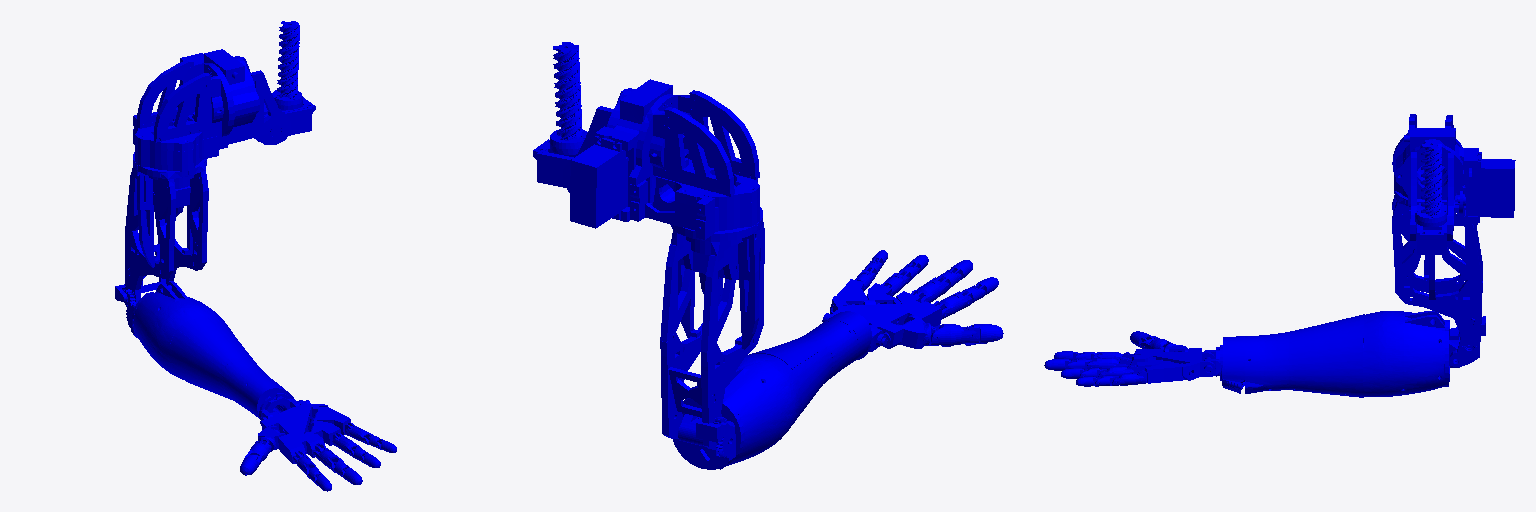
URDF robot description (RobotArm):
<?xml version="1.0"?>
<robot name="RobotArm">

    <material name="blue">
        <color rgba="0 0 1 1"/>
    </material>


<link name="base_link">
        <visual>
            <geometry>
<mesh filename="package://inmoov_description/STL/spalladestra2b.dae" scale="0.009 0.009 0.009" />
            </geometry>
            <origin rpy="4.7 -4.726 -0.03" xyz="-0.1 -1 0.08" />
            <material name="blue"/>
        </visual>
        <collision>
            <geometry>
               <mesh filename="package://inmoov_description/STL/spalladestra2b.dae" scale="0.009 0.009 0.009" />
            </geometry>
          <origin rpy="0 0 0" xyz="0 0 0" />
            <material name="blue"/>
        </collision>
    </link>

    <joint name="joint_spalladx" type="revolute">
        <parent link="base_link"/>
        <child link="spalla2dx_link"/>
      <origin rpy="0 0 -0.02" xyz="0.4 -0.66 -0.41" />
        <axis xyz="1 0 0"/>
        <limit effort="1000" lower="-0.4" upper="0.4" velocity="5"/>
    </joint> 

<link name="spalla2dx_link">
        <visual>
            <geometry>
<mesh filename="package://inmoov_description/STL/spalladestra1a.dae" scale="0.009 0.009 0.009" />
            </geometry>
            <origin rpy="4.7 -4.726 -0.03" xyz="-0.50 -0.39 0.5" />
            <material name="blue"/>
        </visual>
        <collision>
            <geometry>
               <mesh filename="package://inmoov_description/STL/spalladestra1a.dae" scale="0.009 0.009 0.009" />
            </geometry>
          <origin rpy="0 0 0" xyz="0 0 0" />
            <material name="blue"/>
        </collision>
    </link>

    <joint name="joint_bicipitedx" type="revolute">
        <parent link="spalla2dx_link"/>
        <child link="bicipitedx_link"/>
      <origin rpy="0 0 0" xyz="-1.027 0.04 -2.686" />
        <axis xyz="0 0 1"/>
        <limit effort="1000" lower="-0.5" upper="0" velocity="5"/>
    </joint>  


  <link name="bicipitedx_link">
        <visual>
            <geometry>
                 <mesh filename="package://inmoov_description/STL/bicipitedestrotelaio.dae" scale="0.009 0.009 0.009" />
            </geometry>
            <origin rpy="14.13 0 -4.7" xyz="-0.46 -0.43 2.165" />
            <material name="blue"/>
        </visual>
        <collision>
            <geometry>
               <mesh filename="package://inmoov_description/STL/bicipitedestrotelaio.dae" scale="0.009 0.009 0.009" />
            </geometry>
          <origin rpy="0 0 0" xyz="0 0 0" />
            <material name="blue"/>
        </collision>
    </link>

<joint name="joint_servobicipitedx2" type="revolute">
        <parent link="avambracciodx_link"/>
        <child link="servobicipitedx_link"/>
      <origin rpy="0 0 0" xyz="-0.24 -0.15 0.4" />
        <axis xyz="1 0 0"/>
        <limit effort="1000" lower="0.25" upper="0.25" velocity="5"/>
    </joint> 

  <link name="servobicipitedx_link">
        <visual>
            <geometry>
                 <mesh filename="package://inmoov_description/STL/servomotoresinistrobicipite.dae" scale="0.009 0.009 0.009" />
            </geometry>
            <origin rpy="4.7 0 -0.03" xyz="-0.73 -0.44 1.62" />
            <material name="blue"/>
        </visual>
        <collision>
            <geometry>
               <mesh filename="package://inmoov_description/STL/servomotoresinistrobicipite.dae" scale="0.009 0.009 0.009" />
            </geometry>
          <origin rpy="0 0 0" xyz="0 0 0" />
            <material name="blue"/>
        </collision>
    </link>

 <joint name="joint_avambracciodx" type="revolute">
        <parent link="bicipitedx_link"/>
        <child link="avambracciodx_link"/>
     <origin rpy="0 0 0" xyz="-0.04 0.25 0.15" />
        <axis xyz="1 0 0"/>
        <limit effort="1000" lower="-0.4" upper="0" velocity="5"/>
    </joint>  

<link name="avambracciodx_link">
        <visual>
            <geometry>
                 <mesh filename="package://inmoov_description/STL/avambracciodestro.dae" scale="0.009 0.009 0.009" />
            </geometry>
            <origin rpy="0 10.16 0" xyz="1.1 -0.07 -0.74" />
            <material name="blue"/>
        </visual>
        <collision>
            <geometry>
               <mesh filename="package://inmoov_description/STL/avambracciodestro.dae" scale="0.009 0.009 0.009" />
            </geometry>
          <origin rpy="0 0 0" xyz="0 0 0" />
            <material name="blue"/>
        </collision>
    </link>

    <joint name="joint_mano_dx" type="revolute">
        <parent link="avambracciodx_link"/>
        <child link="handdx_link"/>
      <origin rpy="0 3 0" xyz="0.06 -0.11 -0.1" />
        <axis xyz="0 1 0"/>
        <limit effort="1000" lower="0" upper="1.5" velocity="5"/>
    </joint>

<link name="handdx_link">
        <visual>
            <geometry>
                 <mesh filename="package://inmoov_description/STL/manodestra.dae" scale="0.009 0.009 0.009" />
            </geometry>
            <origin rpy="0 1.6 1.55" xyz="0.026 -2.47 0.03" />
            <material name="blue"/>
        </visual>
        <collision>
            <geometry>
               <mesh filename="package://inmoov_description/STL/manodestra.dae" scale="0.009 0.009 0.009" />
            </geometry>
          <origin rpy="7 0 0" xyz="0 -2.4 0" />
            <material name="blue"/>
        </collision>
    </link>

    <joint name="joint_pollicedx1" type="revolute">
        <parent link="handdx_link"/>
        <child link="pollice1dx_link"/>
     <origin rpy="0 0 0" xyz="0.3 -3 0.05" />
        <axis xyz="0 1 0"/>
       <limit effort="1000" lower="0" upper="1.5" velocity="5"/>
    </joint>


    <link name="pollice1dx_link">
        <visual>
            <geometry>
                 <mesh filename="package://inmoov_description/STL/pollice_destro3.dae" scale="0.009 0.009 0.009" />
            </geometry>
            <origin rpy="-0.01 0.25 0.9" xyz="0.53 -0.43 0.3" />
            <material name="blue"/>
        </visual>
        <collision>
            <geometry>
               <mesh filename="package://inmoov_description/STL/pollice_destro3.dae" scale="0.009 0.009 0.009" />
            </geometry>
           <origin rpy="0 0 0" xyz="0 0 0" />
            <material name="blue"/>
        </collision>
    </link>


    <joint name="joint_pollicedx2" type="revolute">
        <parent link="pollice1dx_link"/>
        <child link="pollice2dx_link"/>
        <origin rpy="4.9 5 0.65" xyz="0.25 -0.1 0" />
         <axis xyz="0 1 0"/>
<limit effort="1000" lower="0" upper="1.5" velocity="5"/>
    </joint>


<link name="pollice2dx_link">
        <visual>
            <geometry>
                 <mesh filename="package://inmoov_description/STL/pollice_2.dae" scale="0.009 0.009 0.009" />
            </geometry>
            <origin xyz="0.0 0.0 0.0175"/>
            <material name="blue"/>
        </visual>
        <collision>
            <geometry>
               <mesh filename="package://inmoov_description/STL/pollice_2.dae" scale="0.009 0.009 0.009" />
            </geometry>
             <origin rpy="0 0 0" xyz="0 0 0" />
            <material name="blue"/>
        </collision>
    </link>

    <joint name="joint_pollicedx3" type="revolute">
        <parent link="pollice2dx_link"/>
        <child link="pollice3dx_link"/>
       <origin rpy="0 0 0" xyz="0 0 -0.3" />
        <axis xyz="0 1 0"/>
        <limit effort="1000" lower="0" upper="1.5" velocity="5"/>
    </joint>

<link name="pollice3dx_link">
        <visual>
            <geometry>
                 <mesh filename="package://inmoov_description/STL/pollice_3.dae" scale="0.009 0.009 0.009" />
            </geometry>
            <origin xyz="0 0 0"/>
            <material name="blue"/>
        </visual>
        <collision>
            <geometry>
               <mesh filename="package://inmoov_description/STL/pollice_3.dae" scale="0.009 0.009 0.009" />
            </geometry>
           <origin rpy="9.4 0 0" xyz="0 0 0" />
            <material name="blue"/>
        </collision>
    </link>    

    <joint name="joint_indicedx1" type="revolute">
        <parent link="handdx_link"/>
        <child link="indicedx1_link"/>
      <origin rpy="-3.06 4.7 -1.53" xyz="0.31 -3.553 0.08" />
      <axis xyz="0 1 0"/>
 <limit effort="1000" lower="-1.5" upper="0" velocity="5"/>
    </joint>

   <link name="indicedx1_link">
        <visual>
            <geometry>
                 <mesh filename="package://inmoov_description/STL/indice1.dae" scale="0.009 0.009 0.009" />
            </geometry>
             <origin rpy="0 0 0" xyz="0 0 0.32" />
            <material name="blue"/>
        </visual>
        <collision>
            <geometry>
               <mesh filename="package://inmoov_description/STL/indice1.dae" scale="0.009 0.009 0.009" />
            </geometry>
            <origin rpy="0 0 0" xyz="0 0 0.32" />
            <material name="blue"/>
        </collision>
    </link> 

    <joint name="joint_indicedx2" type="revolute">
        <parent link="indicedx1_link"/>
        <child link="indicedx2_link"/>
        <origin rpy="0 0 0" xyz="0 0 0.35" />
        <axis xyz="0 1 0"/>
        <limit effort="1000" lower="-1.5" upper="0" velocity="5"/>
    </joint>

    <link name="indicedx2_link">
        <visual>
            <geometry>
                 <mesh filename="package://inmoov_description/STL/indice2.dae" scale="0.009 0.009 0.009" />
            </geometry>
            <origin rpy="9.4 0 0" xyz="0 0 -0.025" />
            <material name="blue"/>
        </visual>
        <collision>
            <geometry>
               <mesh filename="package://inmoov_description/STL/indice2.dae" scale="0.009 0.009 0.009" />
            </geometry>
           <origin rpy="9.4 0 0" xyz="0 0 -0.025" />
            <material name="blue"/>
        </collision>
    </link> 

    <joint name="joint_indicedx3" type="revolute">
        <parent link="indicedx2_link"/>
        <child link="indicedx3_link"/>
      <origin rpy="0 0 0" xyz="0 0.005 0.2" />
      <axis xyz="0 1 0"/>
 <limit effort="1000" lower="-1.5" upper="0" velocity="5"/>
    </joint>

    <link name="indicedx3_link">
        <visual>
            <geometry>
                 <mesh filename="package://inmoov_description/STL/indice3.dae" scale="0.009 0.009 0.009" />
            </geometry>
            <origin rpy="9.4 0 0" xyz="0 0 -0.01" />
            <material name="blue"/>
        </visual>
        <collision>
            <geometry>
               <mesh filename="package://inmoov_description/STL/indice3.dae" scale="0.009 0.009 0.009" />
            </geometry>
             <origin rpy="9.4 0 0" xyz="0 0 -0.01" />
            <material name="blue"/>
        </collision>
    </link> 

    <joint name="joint_mediodx1" type="revolute">
        <parent link="handdx_link"/>
        <child link="mediodx1_link"/>
       <origin rpy="-3.14 4.7 -1.565" xyz="0.065 -3.58 0.08" />
        <axis xyz="0 1 0"/>
       <limit effort="1000" lower="-1.5" upper="0" velocity="5"/>
    </joint>

    <link name="mediodx1_link">
        <visual>
            <geometry>
                 <mesh filename="package://inmoov_description/STL/medio_1.dae" scale="0.009 0.009 0.009" />
            </geometry>
           <origin rpy="0 0 0" xyz="0 0 0.35" />
            <material name="blue"/>
        </visual>
        <collision>
            <geometry>
               <mesh filename="package://inmoov_description/STL/medio_1.dae" scale="0.009 0.009 0.009" />
            </geometry>
             <origin rpy="0 0 0" xyz="0 0 0.35" />
            <material name="blue"/>
        </collision>
    </link> 

    <joint name="joint_mediodx2" type="revolute">
        <parent link="mediodx1_link"/>
        <child link="mediodx2_link"/>
          <origin rpy="0 0 0" xyz="0 0 0.35" />
        <axis xyz="0 1 0"/>
        <limit effort="1000" lower="-1.5" upper="0" velocity="5"/>
    </joint>

    <link name="mediodx2_link">
        <visual>
            <geometry>
                 <mesh filename="package://inmoov_description/STL/medio_2.dae" scale="0.009 0.009 0.009" />
            </geometry>
              <origin rpy="9.4 0 0" xyz="0 0 0.015" />
            <material name="blue"/>
        </visual>
        <collision>
            <geometry>
               <mesh filename="package://inmoov_description/STL/medio_2.dae" scale="0.009 0.009 0.009" />
            </geometry>
             <origin rpy="9.4 0 0" xyz="0 0 0.015" />
            <material name="blue"/>
        </collision>
    </link> 

    <joint name="joint_mediodx3" type="revolute">
        <parent link="mediodx2_link"/>
        <child link="mediodx3_link"/>
         <origin rpy="0 0 0" xyz="0 0 0.22" />
      <axis xyz="0 1 0"/>
 <limit effort="1000" lower="-1.5" upper="0" velocity="5"/>    
   </joint>

    <link name="mediodx3_link">
        <visual>
            <geometry>
                 <mesh filename="package://inmoov_description/STL/medio_3.dae" scale="0.009 0.009 0.009" />
            </geometry>
             <origin rpy="9.4 0 0" xyz="0 0 0.02" />
            <material name="blue"/>
        </visual>
        <collision>
            <geometry>
               <mesh filename="package://inmoov_description/STL/medio_3.dae" scale="0.009 0.009 0.009" />
            </geometry>
             <origin rpy="9.4 0 0" xyz="0 0 0.02" />
            <material name="blue"/>
        </collision>
    </link> 


     <joint name="joint_anularedx1" type="revolute">
        <parent link="handdx_link"/>
        <child link="anulare1dx_link"/>
       <origin rpy="-3.22 4.7 -1.565" xyz="-0.22 -3.495 0.08" />
        <axis xyz="0 1 0"/>
        <limit effort="1000" lower="-1.5" upper="0" velocity="5"/>
    </joint>

    <link name="anulare1dx_link">
        <visual>
            <geometry>
                 <mesh filename="package://inmoov_description/STL/anulare_2.dae" scale="0.009 0.009 0.009" />
            </geometry>
              <origin rpy="9.4 0 0" xyz="0 0 0" />
            <material name="blue"/>
        </visual>
        <collision>
            <geometry>
               <mesh filename="package://inmoov_description/STL/anulare_2.dae" scale="0.009 0.009 0.009" />
            </geometry>
             <origin rpy="9.4 0 0" xyz="0 0 0" />
            <material name="blue"/>
        </collision>
    </link> 

    <joint name="joint_anularedx2" type="revolute">
        <parent link="anulare1dx_link"/>
        <child link="anulare2dx_link"/>
         <origin rpy="0 0 0" xyz="0 0 0.32" />
      <axis xyz="0 1 0"/>
 <limit effort="1000" lower="-1.5" upper="0" velocity="5"/>
    </joint>

    <link name="anulare2dx_link">
        <visual>
            <geometry>
                 <mesh filename="package://inmoov_description/STL/anulare_3.dae" scale="0.009 0.009 0.009" />
            </geometry>
             <origin rpy="9.4 0 0" xyz="0 0 0" />
            <material name="blue"/>
        </visual>
        <collision>
            <geometry>
               <mesh filename="package://inmoov_description/STL/anulare_3.dae" scale="0.009 0.009 0.009" />
            </geometry>
             <origin rpy="9.4 0 0" xyz="0 0 0.02" />
            <material name="blue"/>
        </collision>
    </link> 

 <joint name="joint_anularedx3" type="revolute">
        <parent link="anulare2dx_link"/>
        <child link="anulare3dx_link"/>
         <origin rpy="0 0 0" xyz="0 0 0.2" />
      <axis xyz="0 1 0"/>
<limit effort="1000" lower="-1.5" upper="0" velocity="5"/>
    </joint>

    <link name="anulare3dx_link">
        <visual>
            <geometry>
                 <mesh filename="package://inmoov_description/STL/anulare_4.dae" scale="0.009 0.009 0.009" />
            </geometry>
             <origin rpy="9.4 0 0" xyz="0 0 0" />
            <material name="blue"/>
        </visual>
        <collision>
            <geometry>
               <mesh filename="package://inmoov_description/STL/anulare_4.dae" scale="0.009 0.009 0.009" />
            </geometry>
             <origin rpy="9.4 0 0" xyz="0 0 0" />
            <material name="blue"/>
        </collision>
    </link> 


 <joint name="joint_mignolodx1" type="revolute">
        <parent link="handdx_link"/>
        <child link="linkdx_mignoloprimo"/>
       <origin rpy="-0.225 4.7 -1.565" xyz="-0.437 -3.38 0.08" />
        <axis xyz="0 1 0"/>
       <limit effort="1000" lower="0" upper="1.5" velocity="5"/>
    </joint>

    <link name="linkdx_mignoloprimo">
        <visual>
            <geometry>
                 <mesh filename="package://inmoov_description/STL/mignolo_2.dae" scale="0.009 0.009 0.009" />
            </geometry>
           <origin rpy="0 0 0" xyz="0 0 0" />
            <material name="blue"/>
        </visual>
        <collision>
            <geometry>
               <mesh filename="package://inmoov_description/STL/mignolo_2.dae" scale="0.009 0.009 0.009" />
            </geometry>
             <origin rpy="0 0 0" xyz="0 0 0" />
            <material name="blue"/>
        </collision>
    </link> 

<joint name="joint_mignolodx2" type="revolute">
        <parent link="linkdx_mignoloprimo"/>
        <child link="linkdx_mignolosecondo"/>
       <origin rpy="0 0 0" xyz="0 0 -0.3" />
        <axis xyz="0 1 0"/>
       <limit effort="1000" lower="0" upper="1.5" velocity="5"/>
    </joint>

    <link name="linkdx_mignolosecondo">
        <visual>
            <geometry>
                 <mesh filename="package://inmoov_description/STL/mignolo_3.dae" scale="0.009 0.009 0.009" />
            </geometry>
           <origin rpy="0 0 0" xyz="0 0 0" />
            <material name="blue"/>
        </visual>
        <collision>
            <geometry>
               <mesh filename="package://inmoov_description/STL/mignolo_3.dae" scale="0.009 0.009 0.009" />
            </geometry>
             <origin rpy="0 0 0" xyz="0 0 0" />
            <material name="blue"/>
        </collision>
    </link> 

<joint name="joint_mignolodx3" type="revolute">
        <parent link="linkdx_mignolosecondo"/>
        <child link="linkdx_mignoloterzo"/>
       <origin rpy="0 0 0" xyz="0 0 -0.2" />
        <axis xyz="0 1 0"/>
        <limit effort="1000" lower="0" upper="1.5" velocity="5"/>
    </joint>

    <link name="linkdx_mignoloterzo">
        <visual>
            <geometry>
                 <mesh filename="package://inmoov_description/STL/mignolo_4.dae" scale="0.009 0.009 0.009" />
            </geometry>
           <origin rpy="0 0 0" xyz="0 0 0" />
            <material name="blue"/>
        </visual>
        <collision>
            <geometry>
               <mesh filename="package://inmoov_description/STL/mignolo_4.dae" scale="0.009 0.009 0.009" />
            </geometry>
             <origin rpy="0 0 0" xyz="0 0 0" />
            <material name="blue"/>
        </collision>
    </link> 


     

</robot>

--- Render facts (derived) ---
The picture shows the robot from 3 angles, left to right: view 1: azimuth 30°, elevation 25°; view 2: azimuth 150°, elevation 25°; view 3: azimuth 270°, elevation 25°; orthographic projection.
Model RobotArm with 21 links and 20 joints (20 revolute), rooted at base_link, posed joints at zero except 1 at the middle of their limits (joint_servobicipitedx2 = 0.25).
Links seen in each view (by area): view 1: avambracciodx_link, bicipitedx_link, spalla2dx_link, base_link, handdx_link; view 2: bicipitedx_link, spalla2dx_link, avambracciodx_link, base_link, handdx_link, pollice2dx_link, pollice1dx_link; view 3: avambracciodx_link, base_link, bicipitedx_link, handdx_link, spalla2dx_link.
Link boxes in pixels (x1=…): avambracciodx_link: x1=126, y1=281, x2=293, y2=418; bicipitedx_link: x1=115, y1=152, x2=208, y2=307; spalla2dx_link: x1=133, y1=59, x2=234, y2=171; base_link: x1=180, y1=21, x2=315, y2=144; handdx_link: x1=259, y1=393, x2=354, y2=463; bicipitedx_link: x1=660, y1=207, x2=764, y2=449; spalla2dx_link: x1=629, y1=90, x2=759, y2=239; avambracciodx_link: x1=673, y1=311, x2=871, y2=469; base_link: x1=533, y1=42, x2=672, y2=228; handdx_link: x1=822, y1=279, x2=944, y2=359; pollice2dx_link: x1=931, y1=324, x2=979, y2=346; pollice1dx_link: x1=897, y1=315, x2=938, y2=348; avambracciodx_link: x1=1222, y1=311, x2=1459, y2=397; base_link: x1=1396, y1=128, x2=1515, y2=254; bicipitedx_link: x1=1392, y1=191, x2=1485, y2=366; handdx_link: x1=1119, y1=345, x2=1222, y2=383; spalla2dx_link: x1=1392, y1=114, x2=1464, y2=205.
Size in the robot's own frame: 2.78 by 5.25 by 3.76 metres.
20 mesh visuals loaded from 21 distinct referenced files (20 Collada DAE); not drawn: 1 (reference not matched to a file when rendering).